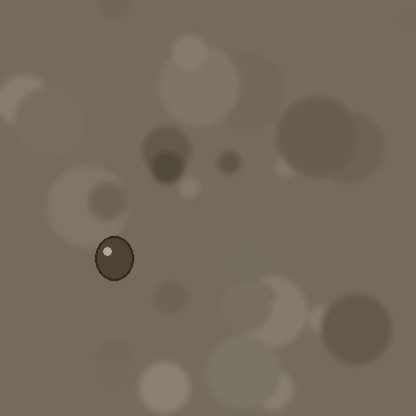gota: (95, 238, 133, 284)
